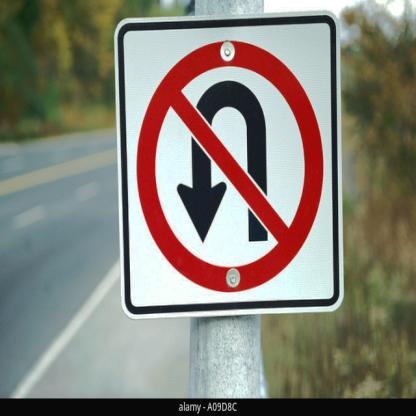No U-turn: (123, 28, 340, 302)
